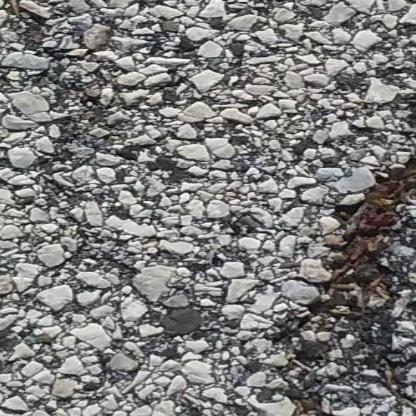Cracks: (272, 79, 416, 416), (0, 0, 108, 193)
